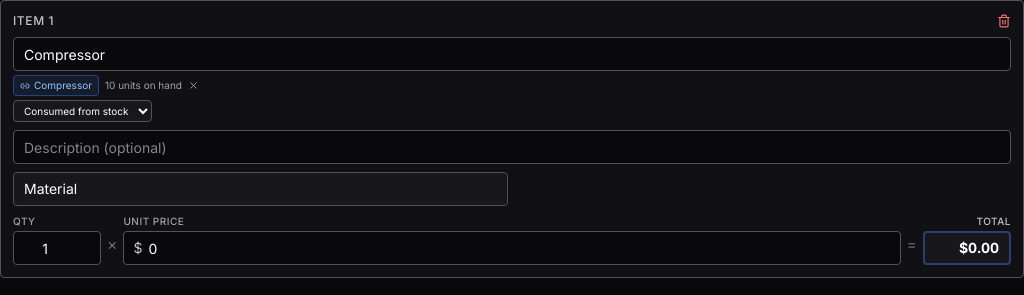
Scenario: LineItemCard — disposition › says out loud that a non-stock line moves nothing
Select "Not from stock" in the dropdown named "Stock effect" at (82, 111), box left=13, top=100, right=152, bottom=122
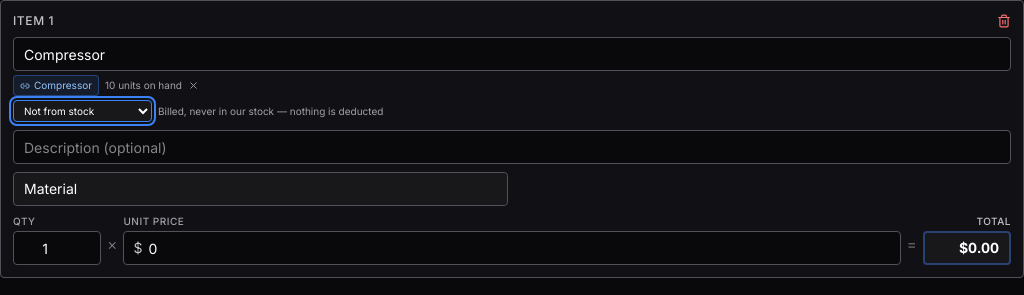
Expected: the text "Billed, never in our stock — nothing is deducted" is shown, left=158, top=104, right=384, bottom=118
